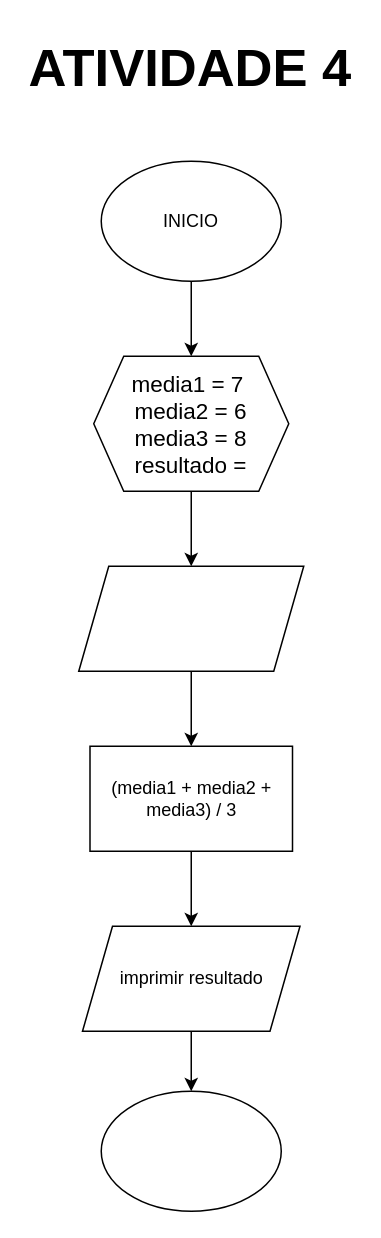
This 381x1238 diagram has some shape labels left out. The shapes that lost their labels are listed below. From the top down, each one's centre as x and y in pixels, then its label:
pixel 190 618: Ler media1 media2 media3
pixel 190 1150: FIM
